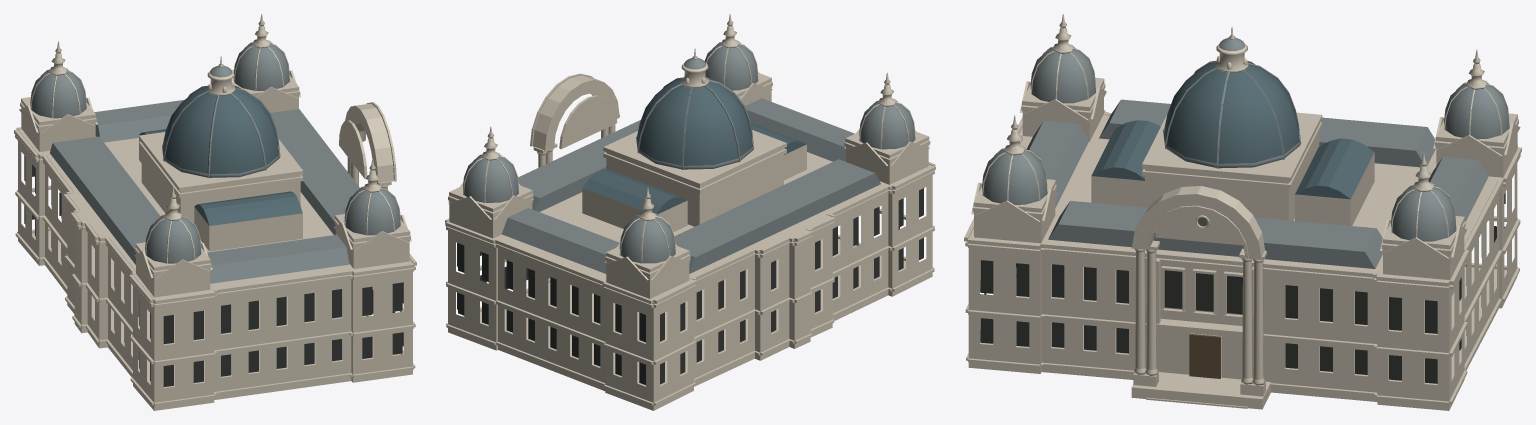
The model's file is cec-palace-far.glb.
3 renders of one model, left to right at view 1: azimuth 30°, elevation 25°; view 2: azimuth 150°, elevation 25°; view 3: azimuth 270°, elevation 25°, orthographic. The views are drawn at different scales.
Visible parts, largest first — view 1: cec-palace-0-stone, cec-palace-0-roof, cec-palace-0-glass, cec-palace-0-window; view 2: cec-palace-0-stone, cec-palace-0-roof, cec-palace-0-glass, cec-palace-0-window; view 3: cec-palace-0-stone, cec-palace-0-roof, cec-palace-0-glass, cec-palace-0-window, cec-palace-0-wood.
Boxes of the visible parts, bbox=[...] form: cec-palace-0-stone: bbox=[14, 14, 416, 410]; cec-palace-0-roof: bbox=[30, 42, 400, 283]; cec-palace-0-glass: bbox=[139, 85, 302, 225]; cec-palace-0-window: bbox=[24, 155, 403, 386]; cec-palace-0-stone: bbox=[445, 14, 935, 410]; cec-palace-0-roof: bbox=[463, 42, 915, 273]; cec-palace-0-glass: bbox=[582, 78, 806, 214]; cec-palace-0-window: bbox=[457, 188, 923, 384]; cec-palace-0-stone: bbox=[964, 14, 1521, 410]; cec-palace-0-roof: bbox=[982, 37, 1509, 268]; cec-palace-0-glass: bbox=[1091, 61, 1374, 199]; cec-palace-0-window: bbox=[980, 192, 1505, 383]; cec-palace-0-wood: bbox=[1189, 334, 1220, 378].
Size of the model in its own units: 51.76 by 40 by 68.31.
